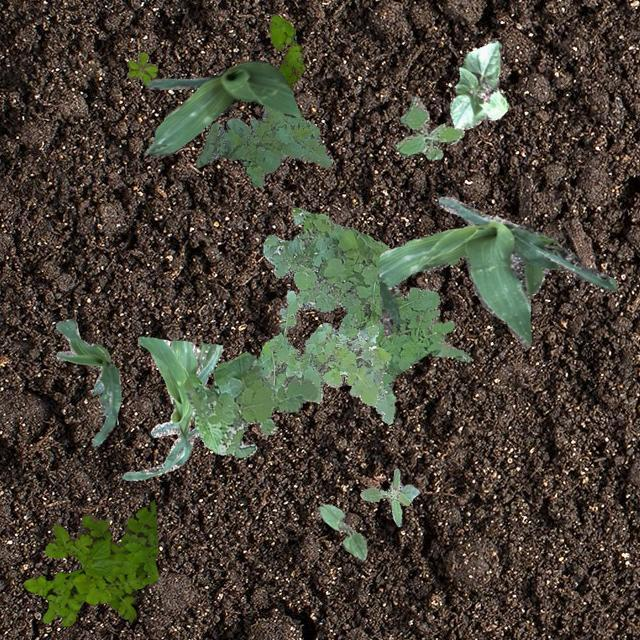crop: (376, 193, 614, 344), (145, 58, 299, 156), (121, 336, 221, 480), (54, 318, 120, 444), (448, 38, 508, 128), (316, 504, 366, 560)
weed: (263, 206, 472, 392), (252, 288, 394, 422), (22, 498, 156, 624), (182, 352, 316, 456), (195, 106, 332, 186), (396, 95, 464, 158), (358, 466, 418, 526), (268, 13, 304, 88), (126, 52, 156, 84)
